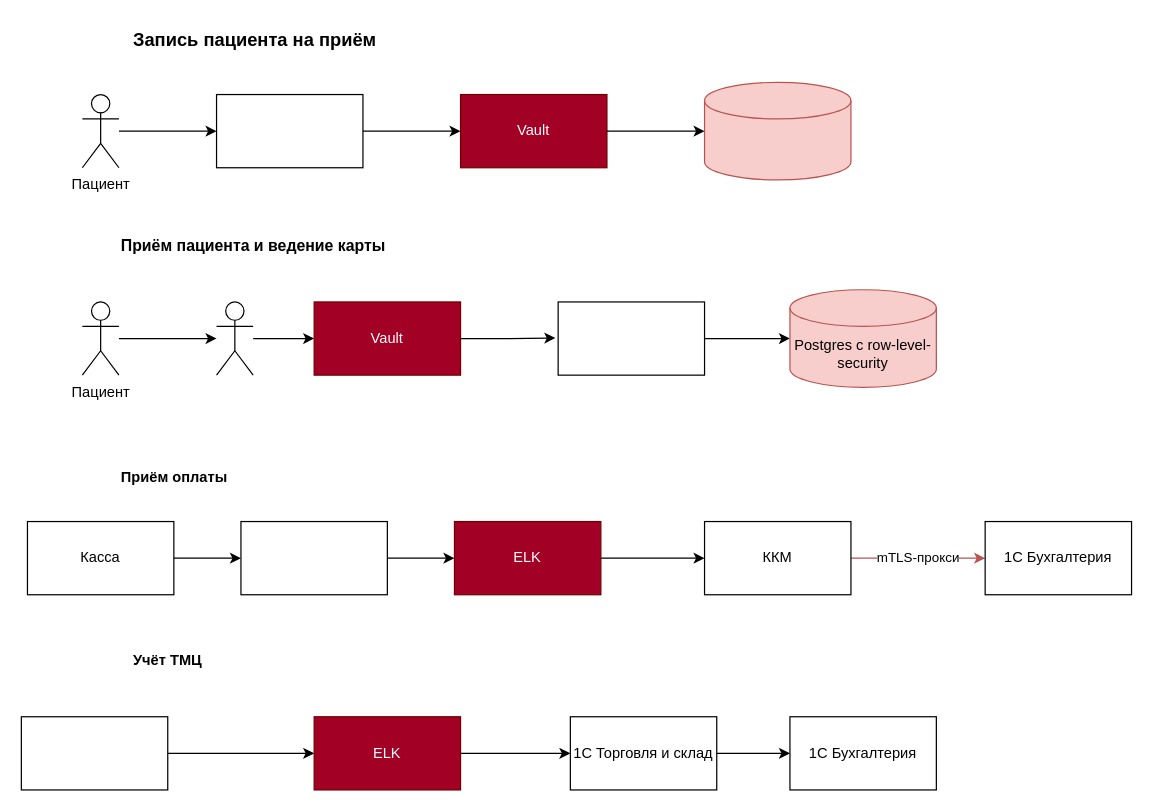
Image size: 1153x811. Some labels were removed from this diagram. Here are the shapes that lost their labels. From the top down, the box of each, then its label:
(215, 93, 363, 168): Ресепшн
(703, 81, 851, 180): Postgres с row-level-security. RBAC.
(215, 301, 253, 375): Доктор
(557, 301, 705, 375): Карта
(240, 520, 387, 595): Чек
(20, 716, 168, 790): Склад
